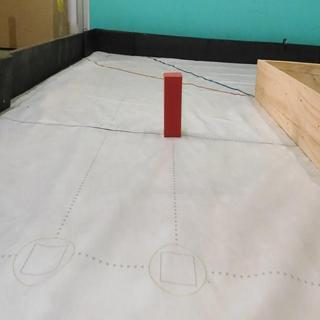redbox: (163, 70, 183, 137)
